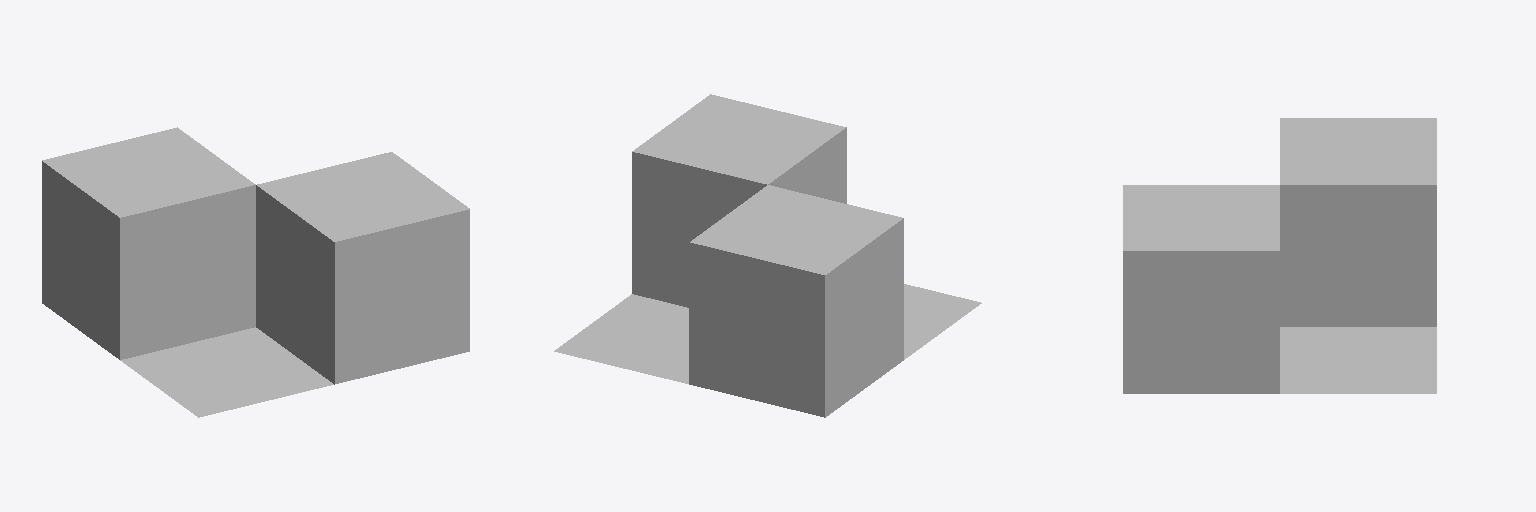
The picture shows the model from 3 angles: view 1: azimuth 30°, elevation 25°; view 2: azimuth 150°, elevation 25°; view 3: azimuth 270°, elevation 25°; orthographic projection.
Parts seen in each view (by area): view 1: Object(1,1)[length_1], Object(2,2)[length_1], Object(1,2)[length_0]; view 2: Object(1,1)[length_1], Object(2,2)[length_1], Object(2,1)[length_0], Object(1,2)[length_0]; view 3: Object(1,1)[length_1], Object(2,2)[length_1], Object(2,1)[length_0].
Part boxes in pixels (x1,y1,x2,y2): Object(1,1)[length_1]: (42,127,255,359); Object(2,2)[length_1]: (256,152,469,384); Object(1,2)[length_0]: (120,327,333,417); Object(1,1)[length_1]: (689,185,903,417); Object(2,2)[length_1]: (632,94,846,307); Object(2,1)[length_0]: (554,294,688,383); Object(1,2)[length_0]: (904,284,981,359); Object(1,1)[length_1]: (1280,118,1436,326); Object(2,2)[length_1]: (1123,185,1279,393); Object(2,1)[length_0]: (1280,327,1436,393).
Size of the model in its own units: 2 by 1 by 2.